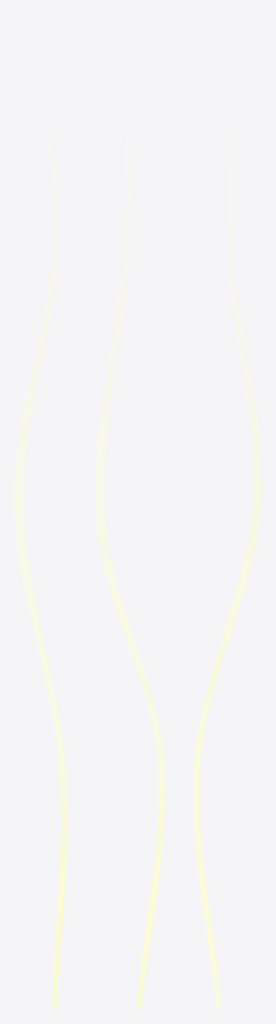
Rendered from strand_b_junction.glb.
3 views of the same model, side by side, from view 1: azimuth 90°, elevation 25°; view 2: azimuth 150°, elevation 25°; view 3: azimuth 330°, elevation 25° (orthographic).
Bounding box in the file's own units: 0.3342 × 7 × 0.3373.
